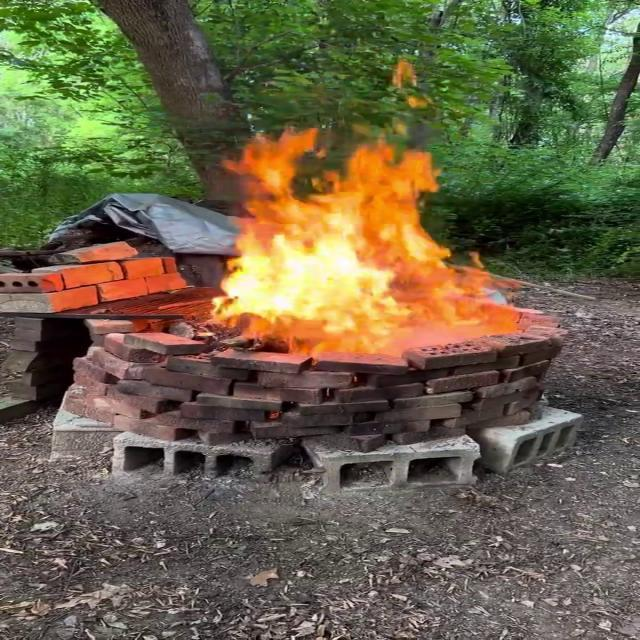Fire: (202, 116, 534, 355)
